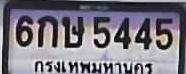4: (134, 17, 151, 49), (114, 15, 130, 48)
5: (155, 16, 172, 49), (93, 16, 109, 46)
6: (15, 15, 32, 46)
A01: (37, 14, 57, 46)
A39: (60, 15, 84, 47)
BKK: (30, 56, 158, 74)
